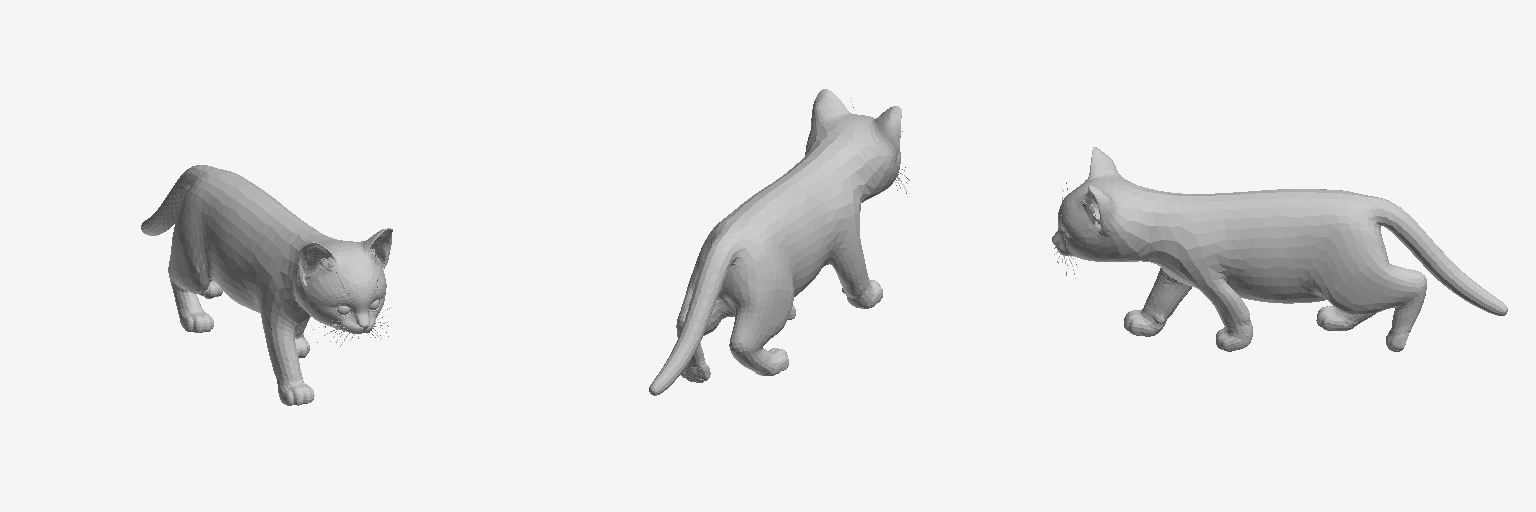
The model's file is kitten_walk.obj.
3 views of the same model, side by side, from view 1: azimuth 30°, elevation 25°; view 2: azimuth 150°, elevation 25°; view 3: azimuth 270°, elevation 25° (orthographic).
Visible parts, largest first — view 1: meshes_0; view 2: meshes_0; view 3: meshes_0.
Boxes of the visible parts, x1=… form: meshes_0: x1=141, y1=165, x2=392, y2=405; meshes_0: x1=649, y1=89, x2=909, y2=395; meshes_0: x1=1052, y1=147, x2=1507, y2=351.
Bounding box in the file's own units: 0.1741 × 0.3306 × 0.7543.